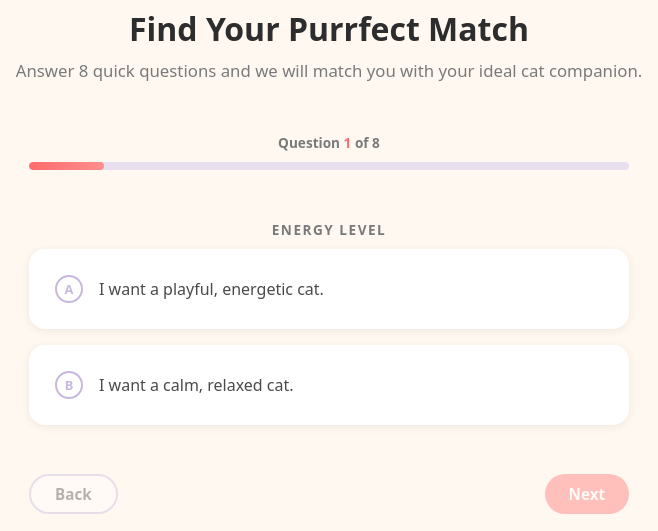
Test: QuestionnaireForm › enables the Next button after selecting an option
The image size is (658, 531).
Step 1. Click the text "I want a playful, energetic cat." → click(211, 289), box [99,278,324,300]
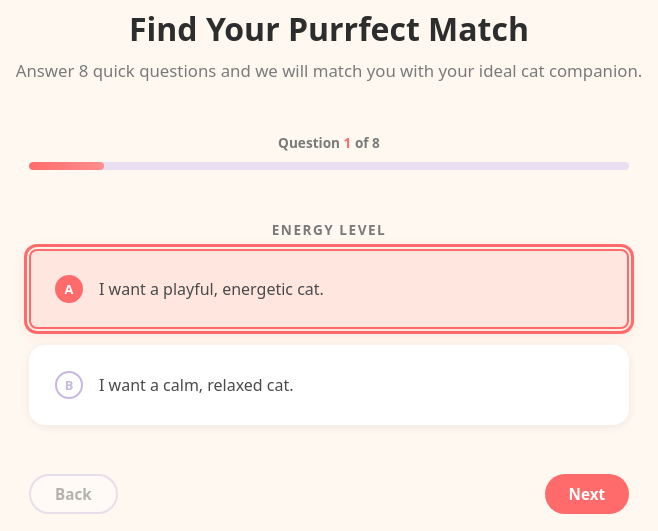
Check: the button "Next" is enabled, box [545,474,629,514]
